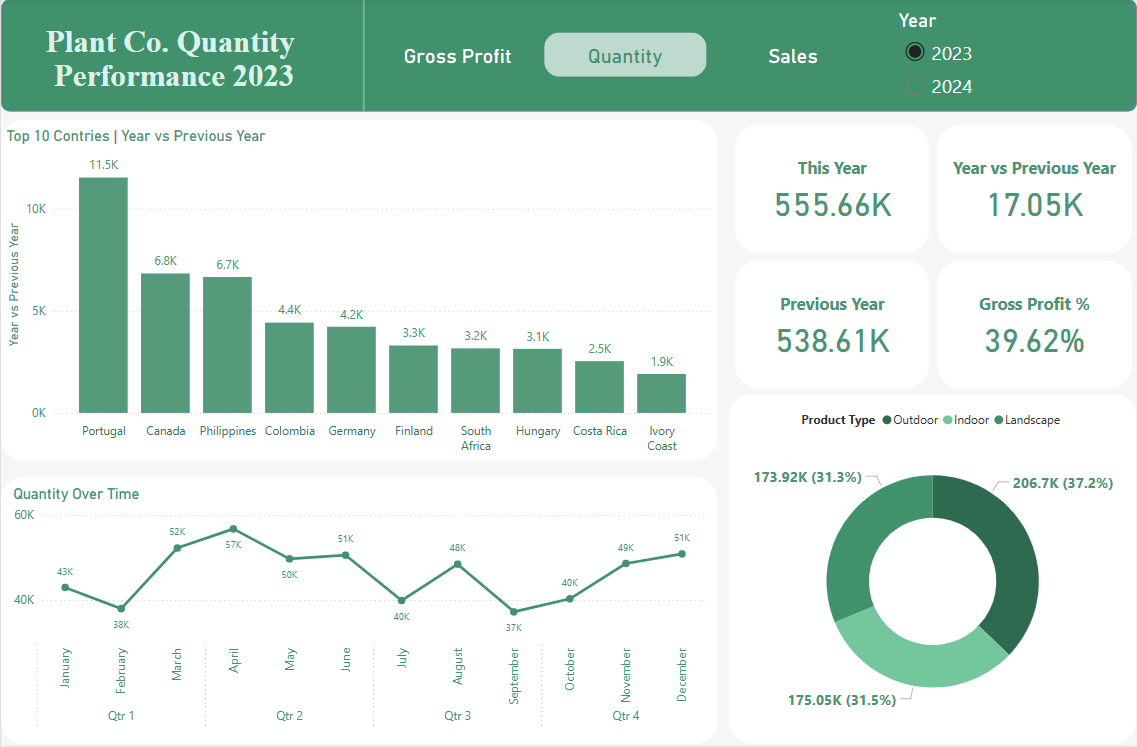

This screenshot's page, from the dashboard's own definition file:
{"tool":"powerbi","page":{"name":"Performance Report","canvas":[1280,840],"ordinal":0},"visuals":[{"type":"shape","box":[0,0,1280,127.4],"z":0},{"type":"advancedSlicerVisual","fields":{"Values":["Slc_Values.Values"]},"box":[418.4,32.5,573.4,60.4],"z":1000},{"type":"card","fields":{"Values":["_Measurse._Report title"]},"box":[0,7.6,389.8,112.2],"z":2000},{"type":"slicer","title":"Year","fields":{"Values":["Dim_Date.Date.Variation.Date Hierarchy.Year"]},"box":[1005.7,10.8,189.1,116.2],"z":3000},{"type":"cardVisual","fields":{"Data":["_Measurse.S_YTD","_Measurse.YTD vs PYTD","_Measurse.S_PYTD","_Measurse.GP%"]},"box":[821.2,132.5,459,312.3],"z":4000},{"type":"columnChart","title":"Top 10 Contries | Year vs Previous Year","fields":{"Category":["Dim_Accounts.country"],"Y":["_Measurse.YTD vs PYTD"]},"box":[5.9,136.2,801.3,384.2],"z":6000},{"type":"donutChart","fields":{"Category":["Dim_Product.Produt_Type"],"Y":["_Measurse.S_YTD"]},"box":[820.9,445.6,450.7,390.9],"z":7000},{"type":"shape","box":[381.2,0,55.8,127.1],"z":8000},{"type":"lineChart","fields":{"Category":["Dim_Date.Date.Variation.Date Hierarchy.Quarter","Dim_Date.Date.Variation.Date Hierarchy.Month"],"Y":["_Measurse.S_YTD"]},"box":[5.7,528.7,805.7,307.8],"z":9000}]}

Visuals, with their boxes in screenshot pixels (x1, y1, x2, y2), scaled from the page's 1280x840 canvas onto the 1137x747 screenshot:
shape: [left=0, top=0, right=1136, bottom=113]
advancedSlicerVisual - Slc_Values.Values: [left=372, top=29, right=881, bottom=83]
card - _Measurse._Report title: [left=0, top=7, right=346, bottom=107]
"Year" slicer: [left=893, top=10, right=1061, bottom=113]
cardVisual - _Measurse.S_YTD x _Measurse.YTD vs PYTD: [left=729, top=118, right=1136, bottom=396]
"Top 10 Contries | Year vs Previous Year" columnChart: [left=5, top=121, right=717, bottom=463]
donutChart - Dim_Product.Produt_Type x _Measurse.S_YTD: [left=729, top=396, right=1130, bottom=744]
shape: [left=339, top=0, right=388, bottom=113]
lineChart - Dim_Date.Date.Variation.Date Hierarchy.Quarter x Dim_Date.Date.Variation.Date Hierarchy.Month: [left=5, top=470, right=721, bottom=744]
